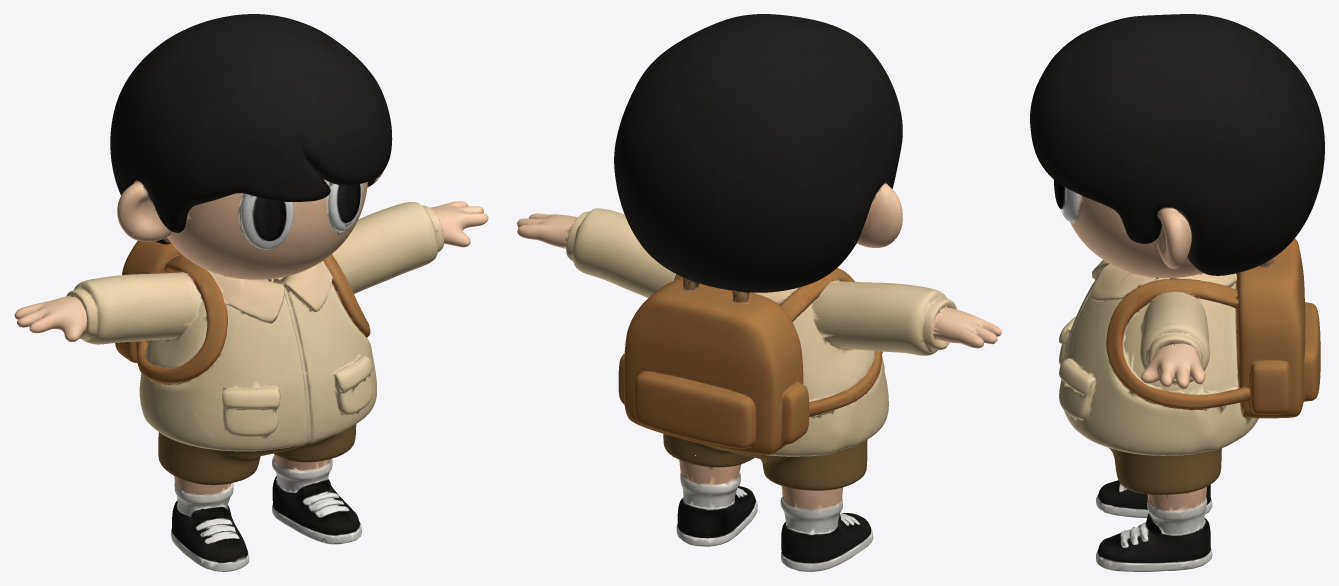
File: char-short.glb
3 renders of one model, left to right at view 1: azimuth 30°, elevation 25°; view 2: azimuth 150°, elevation 25°; view 3: azimuth 270°, elevation 25°, orthographic. The views are drawn at different scales.
Parts seen in each view (by area): view 1: tripo_node_6f06208d-cb80-4538-afee-40a97fc031ca; view 2: tripo_node_6f06208d-cb80-4538-afee-40a97fc031ca; view 3: tripo_node_6f06208d-cb80-4538-afee-40a97fc031ca.
Boxes of the visible parts, x1=… form: tripo_node_6f06208d-cb80-4538-afee-40a97fc031ca: x1=14, y1=14, x2=488, y2=571; tripo_node_6f06208d-cb80-4538-afee-40a97fc031ca: x1=517, y1=14, x2=1001, y2=571; tripo_node_6f06208d-cb80-4538-afee-40a97fc031ca: x1=1030, y1=14, x2=1324, y2=571.
Size of the model in its own units: 0.9572 by 0.9793 by 0.5173.
1 material, 1 textured.
